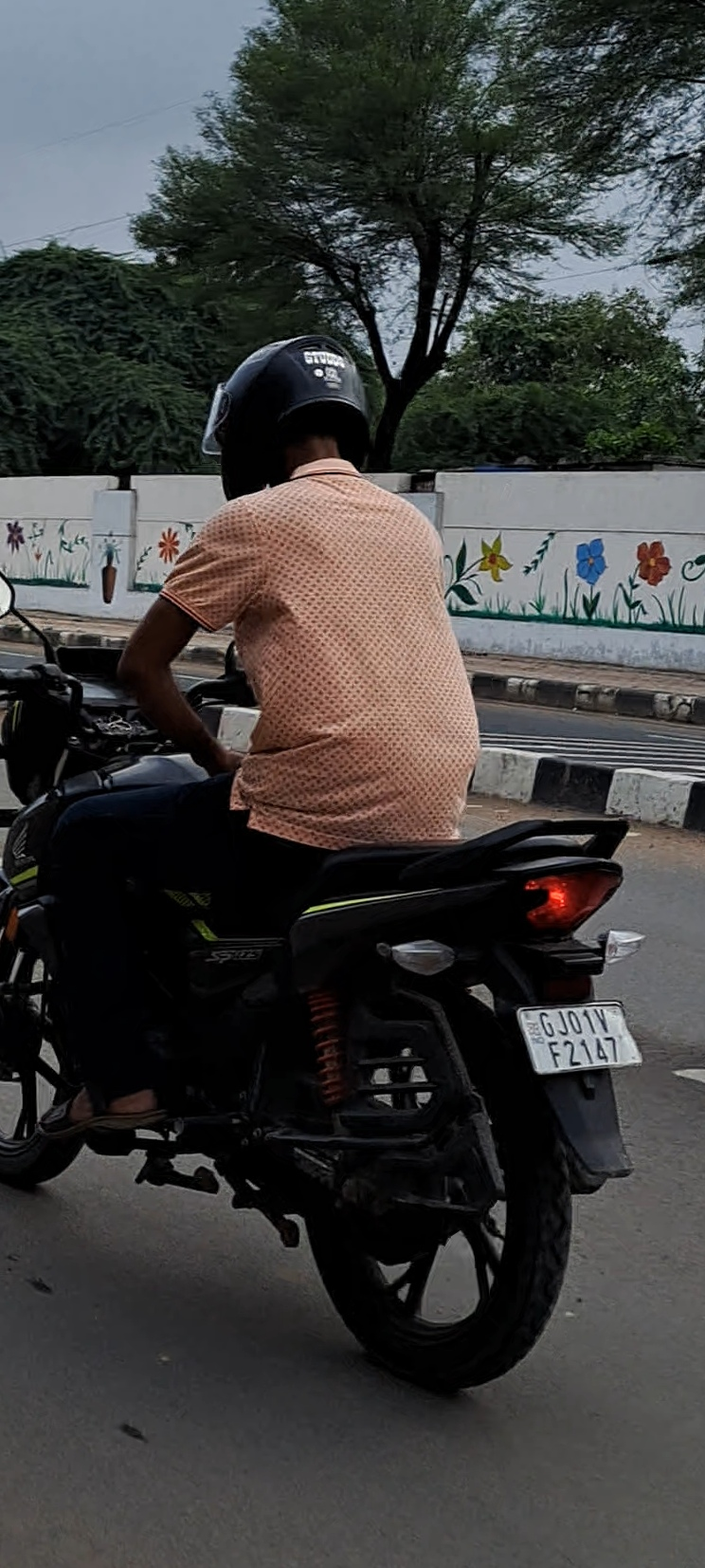BikeWithRider: (0, 320, 648, 1399)
Helmet: (195, 323, 378, 507)
